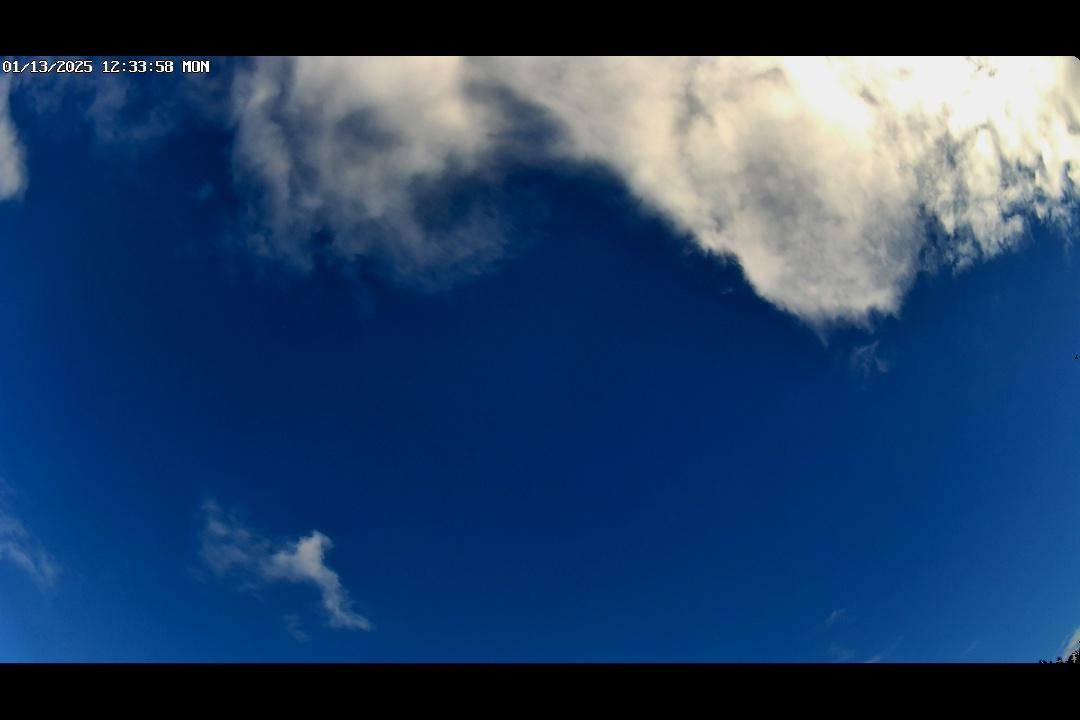WildLife: (1064, 352, 1079, 365)
